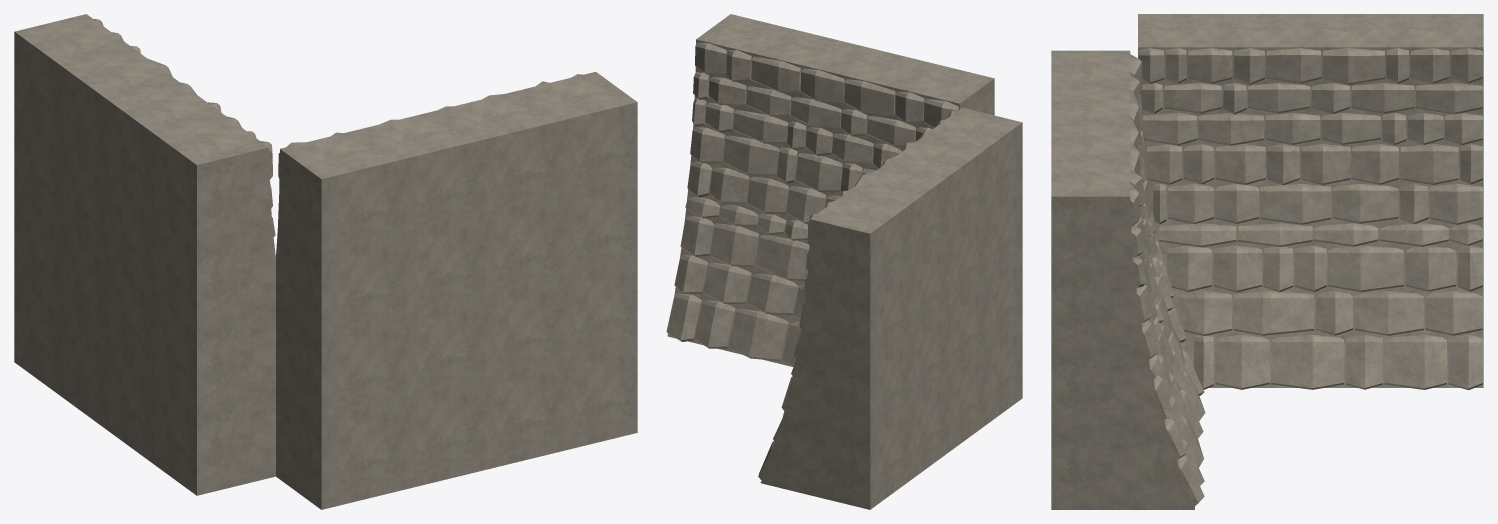
Rendered from HO_Wall_Ishigaki_Corner_Inner.fbx.
3 views of the same model, side by side, from view 1: azimuth 30°, elevation 25°; view 2: azimuth 150°, elevation 25°; view 3: azimuth 270°, elevation 25° (orthographic). The views are drawn at different scales.
Parts seen in each view (by area): view 1: HO_Wall_Ishigaki_Corner_Inner; view 2: HO_Wall_Ishigaki_Corner_Inner; view 3: HO_Wall_Ishigaki_Corner_Inner.
Boxes of the visible parts, left/top/right/bottom form: HO_Wall_Ishigaki_Corner_Inner: left=14, top=14, right=637, bottom=509; HO_Wall_Ishigaki_Corner_Inner: left=666, top=14, right=1022, bottom=509; HO_Wall_Ishigaki_Corner_Inner: left=1051, top=14, right=1483, bottom=509.
Bounding box in the file's own units: 20 × 16 × 20.
